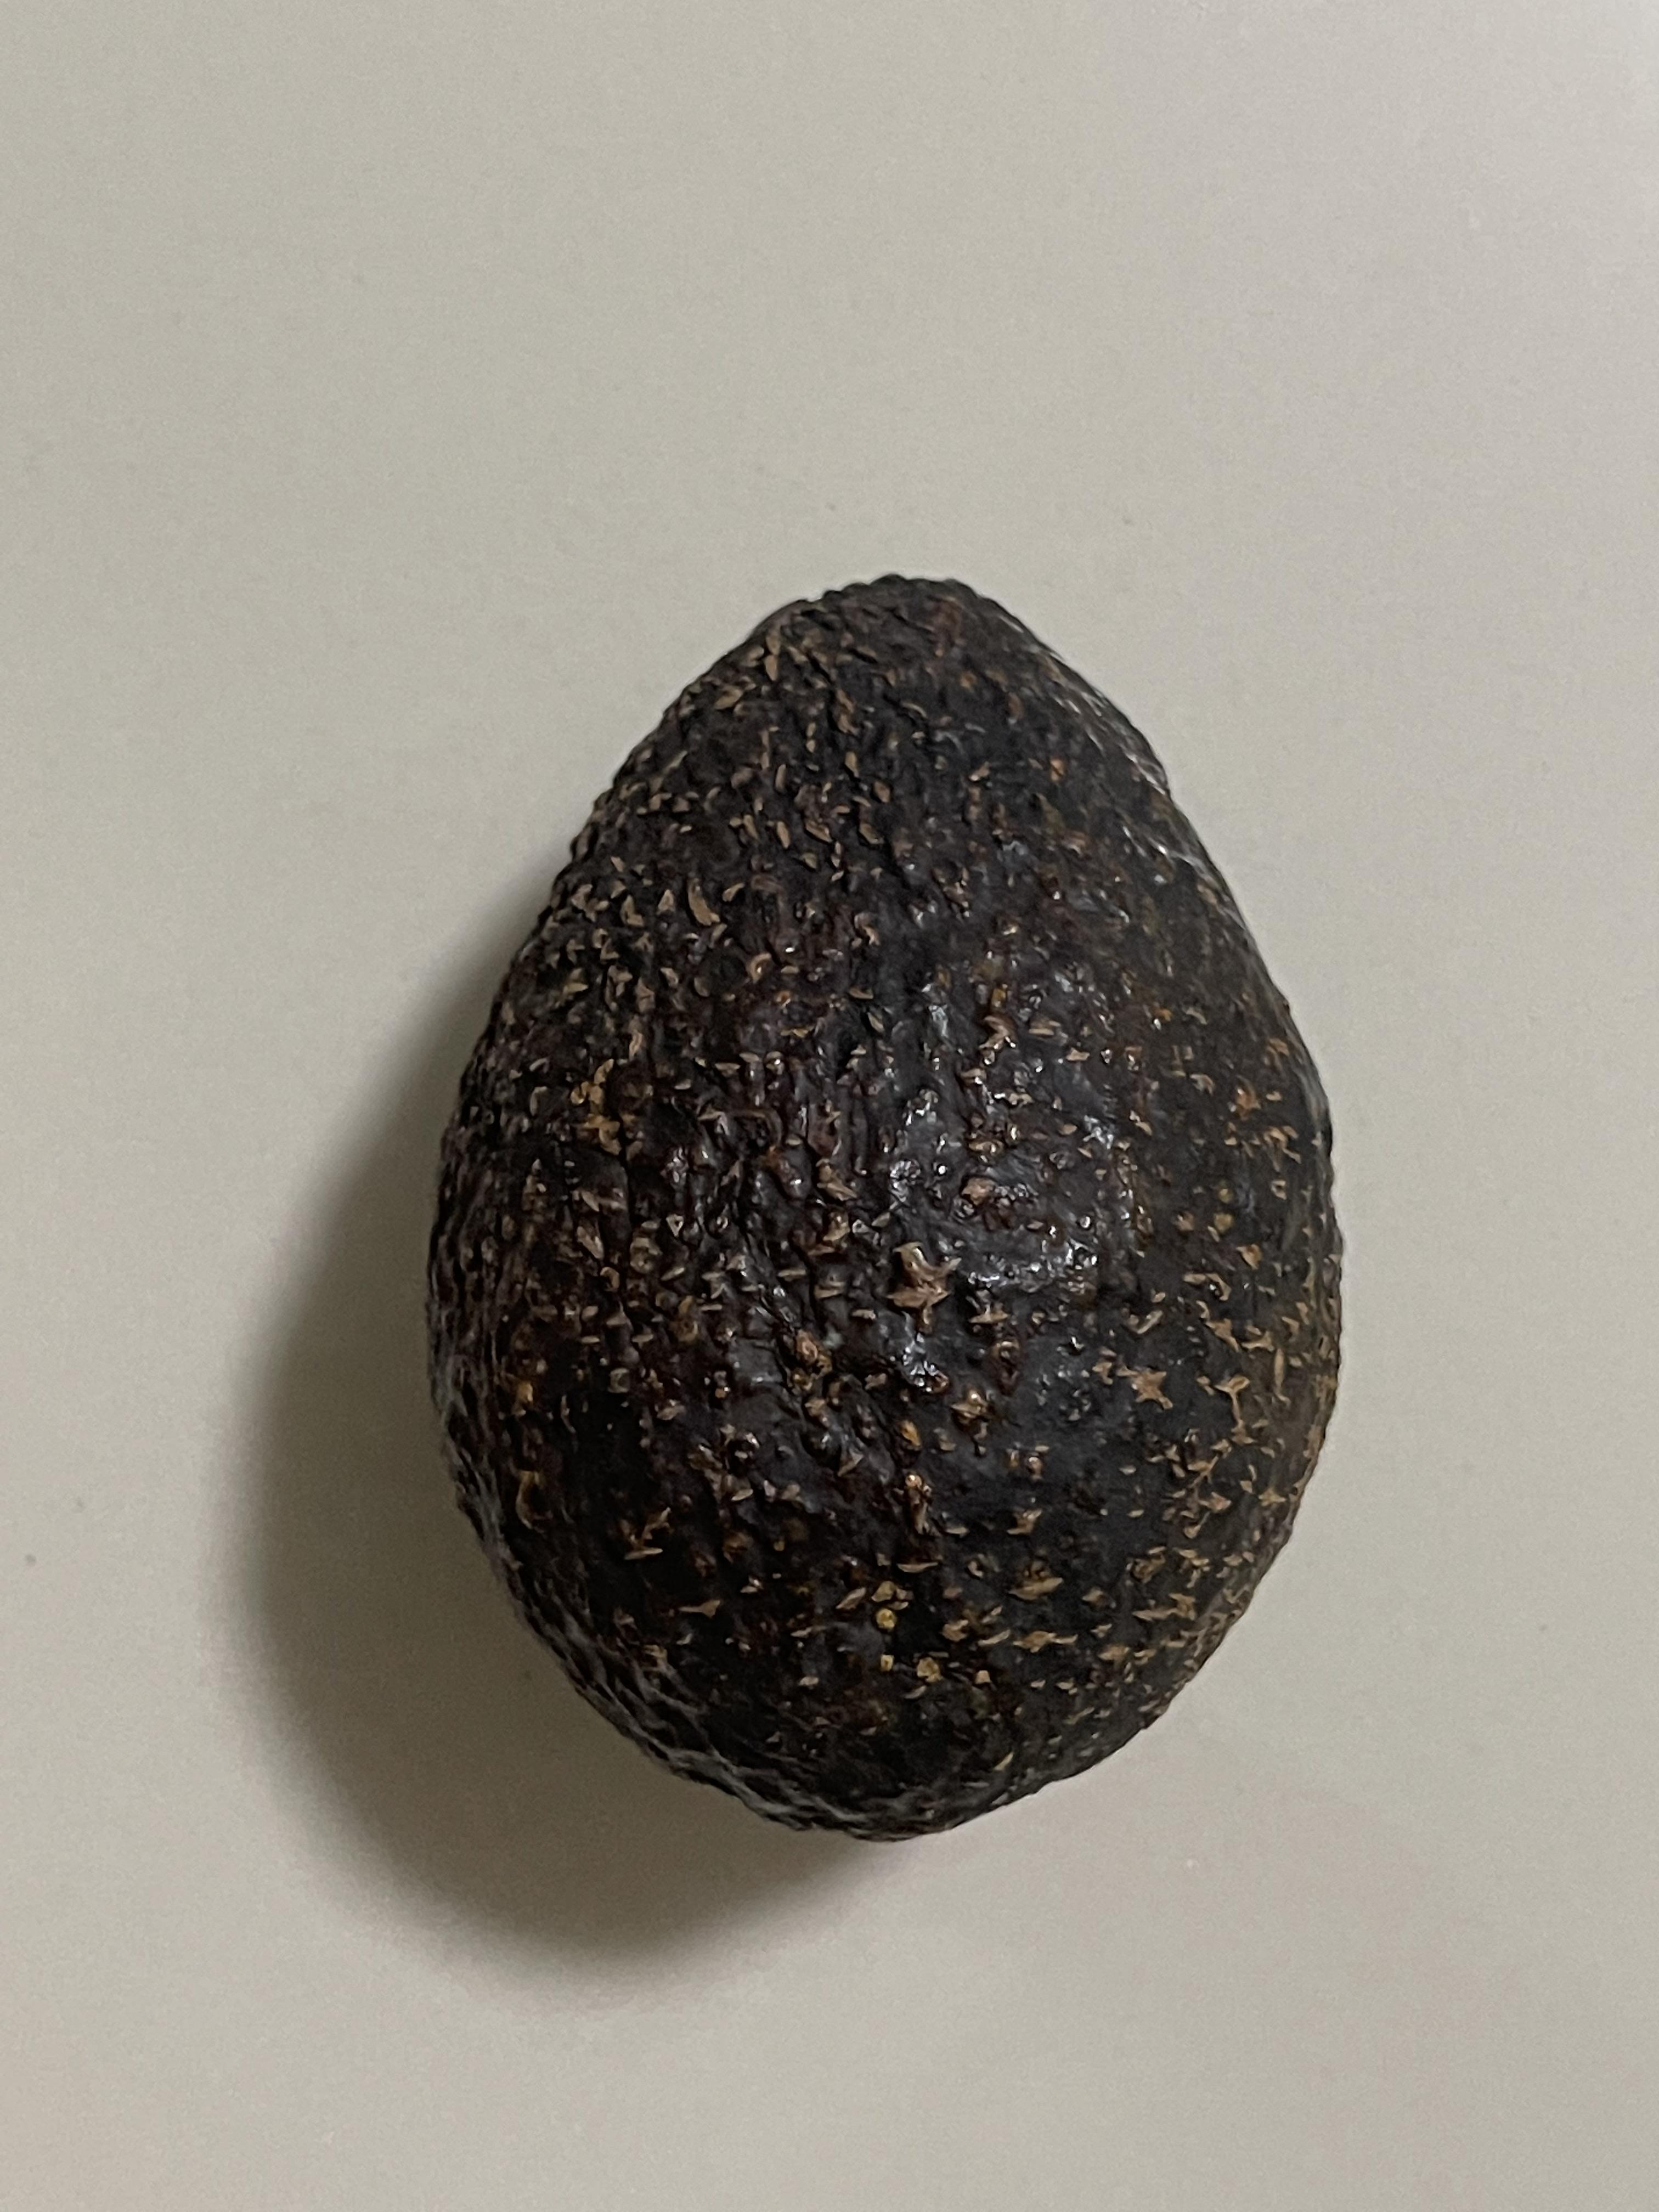Level3: (401, 554, 1368, 1865)
